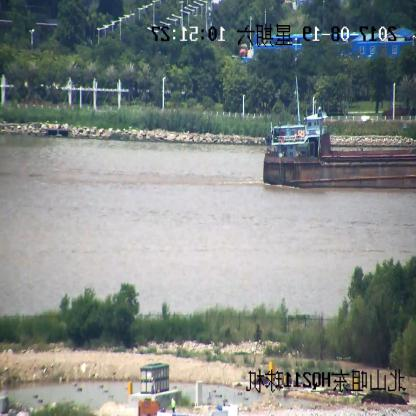Bulk Carrier: (262, 106, 416, 189)
